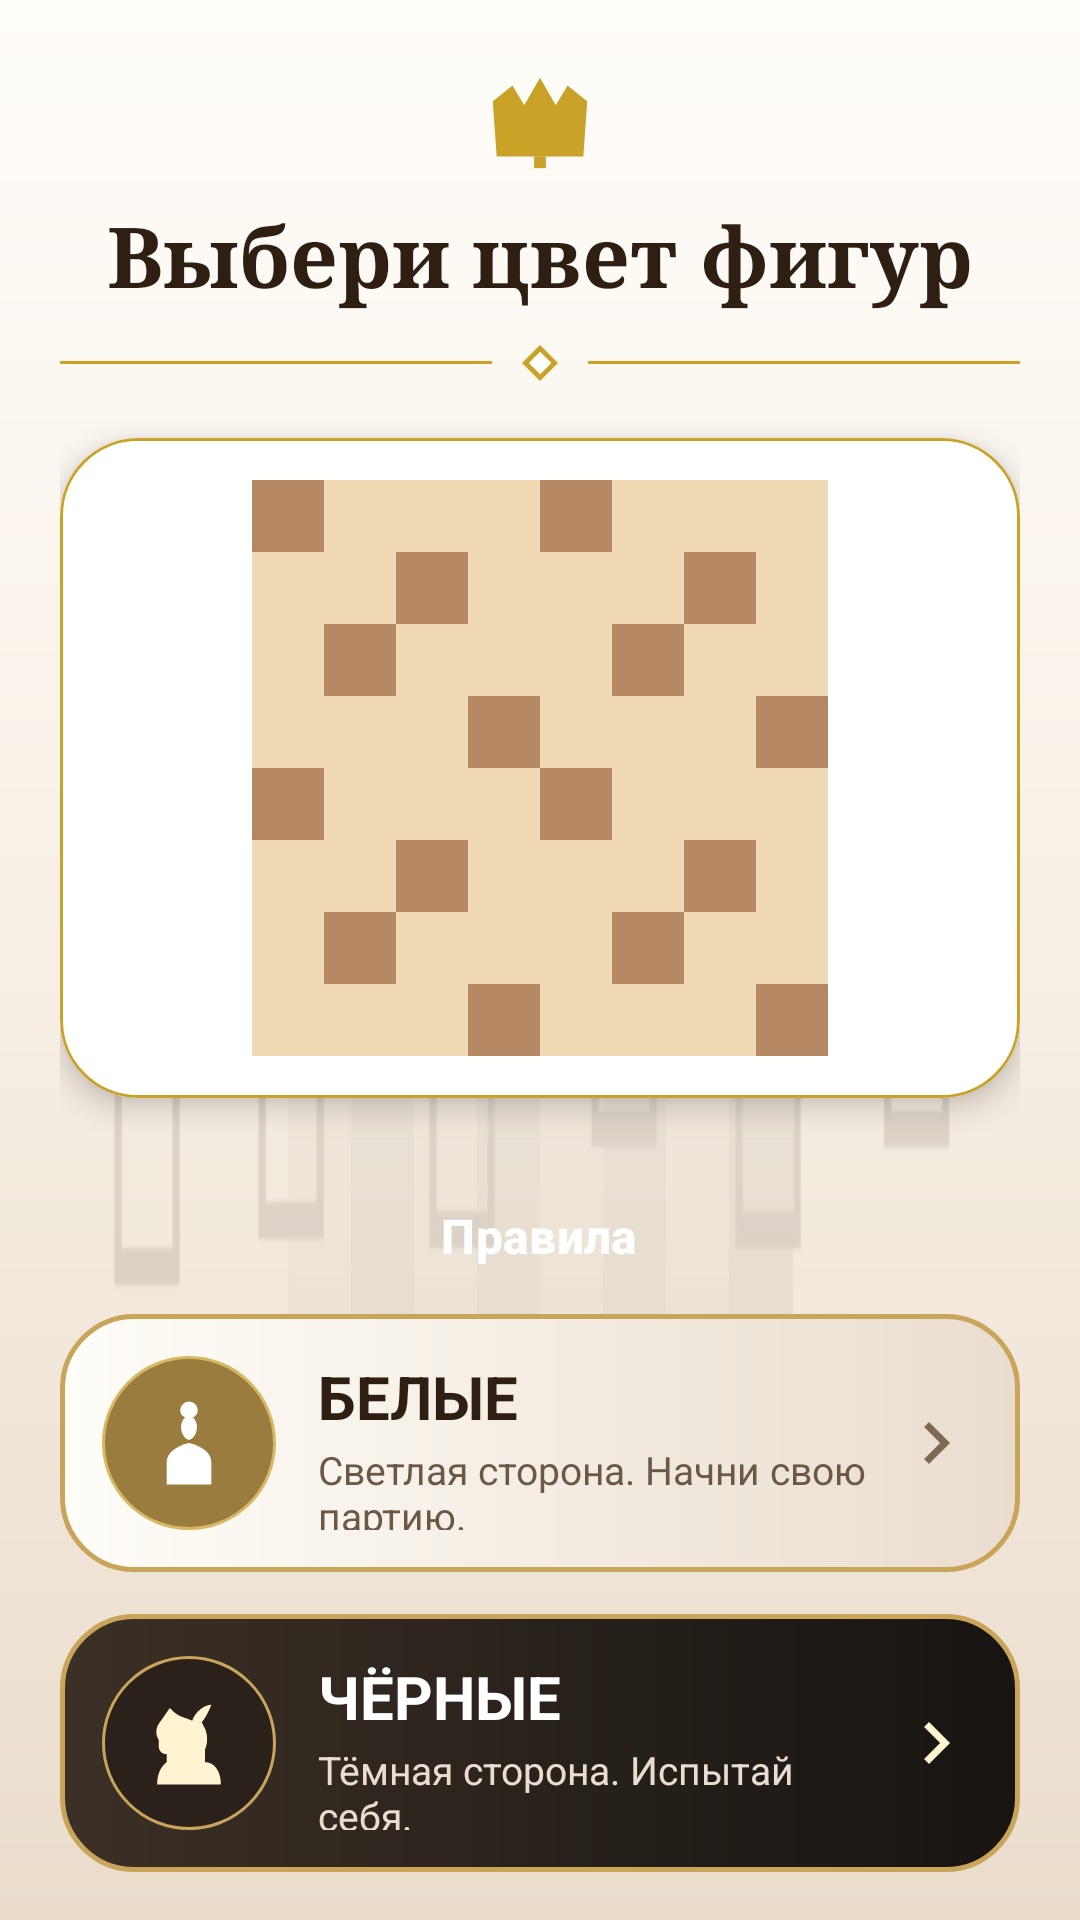

Screen size 1080×1920. Icon name, then its box in pixels as {"left": x1, "top": y1, "right": x2, "bottom": y2}:
chess crown: {"left": 492, "top": 78, "right": 588, "bottom": 169}
Далее: {"left": 924, "top": 1422, "right": 950, "bottom": 1464}, {"left": 924, "top": 1722, "right": 950, "bottom": 1764}
